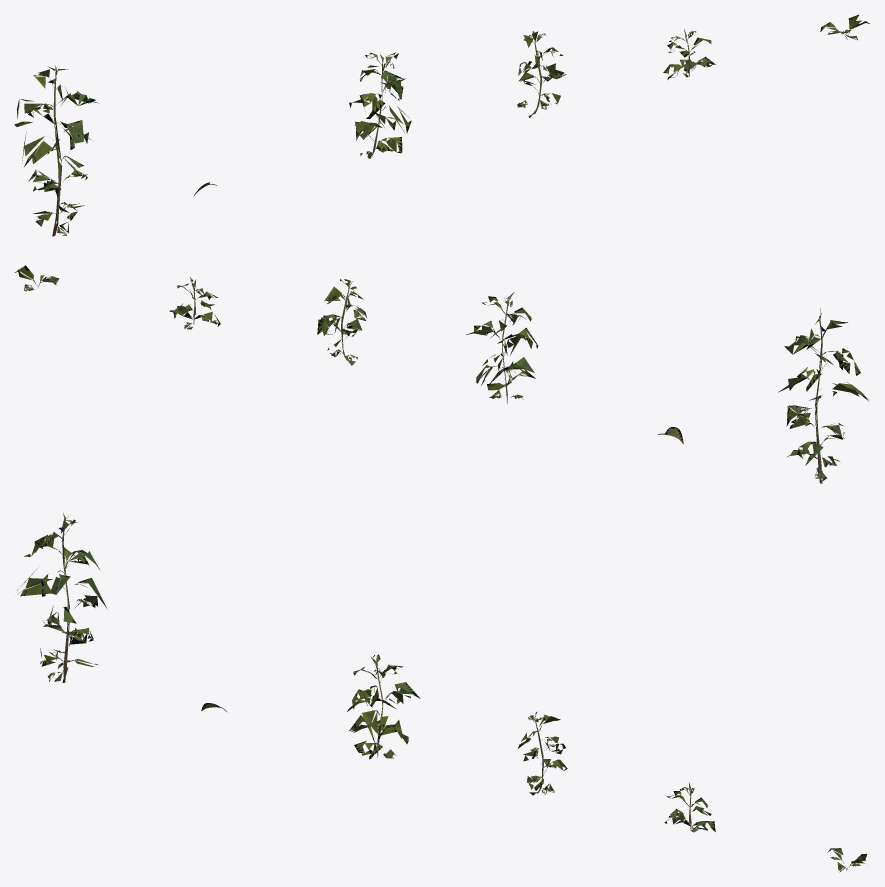
The model's file is nettle_plant.glb.
3 renders of one model, top to bottom at view 1: azimuth 30°, elevation 25°; view 2: azimuth 150°, elevation 25°; view 3: azimuth 330°, elevation 25°, orthographic.
Parts seen in each view (by area): view 1: nettle_plant_tall_a_LOD0, nettle_plant_medium_a_LOD0, nettle_plant_medium_b_LOD0, nettle_plant_small_a_LOD0; view 2: nettle_plant_tall_a_LOD0, nettle_plant_medium_a_LOD0, nettle_plant_medium_b_LOD0, nettle_plant_small_a_LOD0; view 3: nettle_plant_tall_a_LOD0, nettle_plant_medium_a_LOD0, nettle_plant_medium_b_LOD0, nettle_plant_small_a_LOD0.
Boxes of the visible parts, bbox=[...] form: nettle_plant_tall_a_LOD0: bbox=[14, 65, 98, 236]; nettle_plant_medium_a_LOD0: bbox=[349, 52, 411, 158]; nettle_plant_medium_b_LOD0: bbox=[517, 31, 566, 117]; nettle_plant_small_a_LOD0: bbox=[663, 29, 715, 79]; nettle_plant_tall_a_LOD0: bbox=[778, 308, 869, 483]; nettle_plant_medium_a_LOD0: bbox=[466, 292, 538, 403]; nettle_plant_medium_b_LOD0: bbox=[317, 279, 367, 365]; nettle_plant_small_a_LOD0: bbox=[169, 277, 220, 329]; nettle_plant_tall_a_LOD0: bbox=[17, 512, 106, 682]; nettle_plant_medium_a_LOD0: bbox=[347, 654, 420, 759]; nettle_plant_medium_b_LOD0: bbox=[518, 711, 567, 795]; nettle_plant_small_a_LOD0: bbox=[664, 783, 715, 832].
Bounding box in the file's own units: 1.08 × 0.209 × 0.0892.
1 material, 1 textured.
